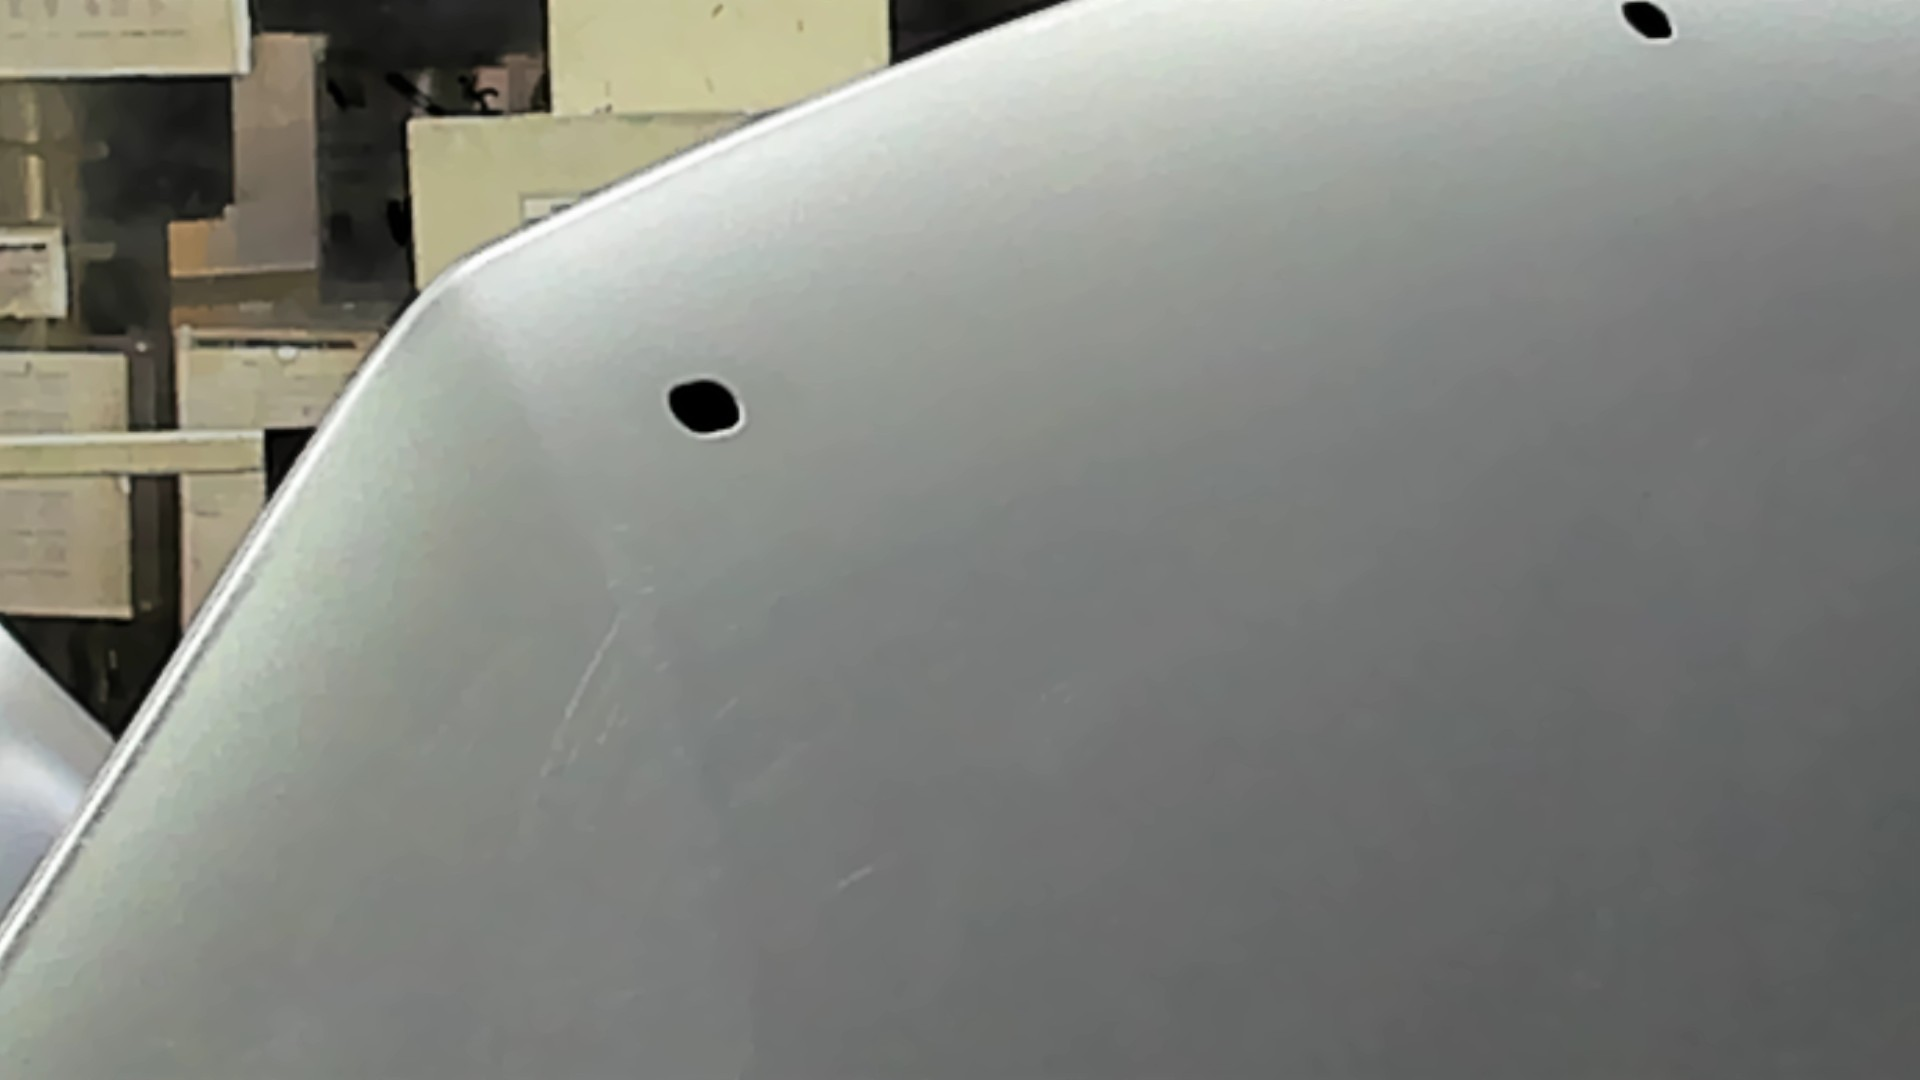amorfo: (655, 371, 748, 438), (1615, 1, 1687, 46)
